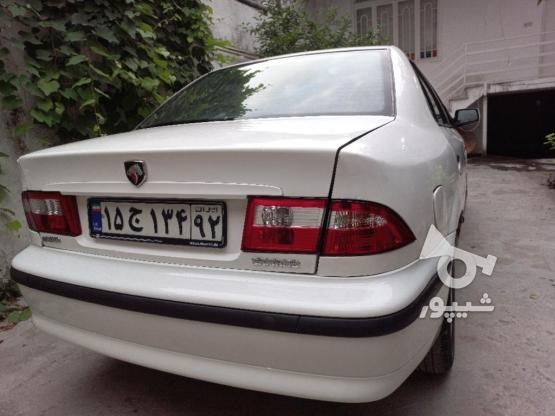car: (86, 196, 228, 247)
